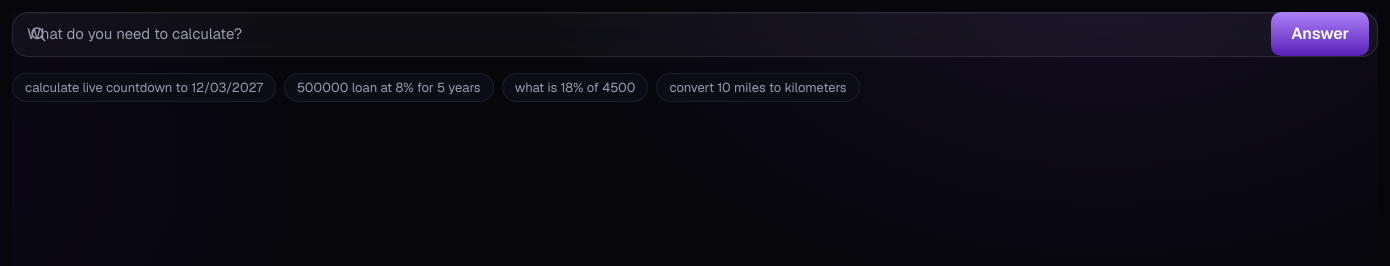
Test: IntentSearch › shows a no-result state with a few candidates for gibberish
In the field: (695, 34) [13,13,1377,56], type "asdkfj qworitu zxcvbn"
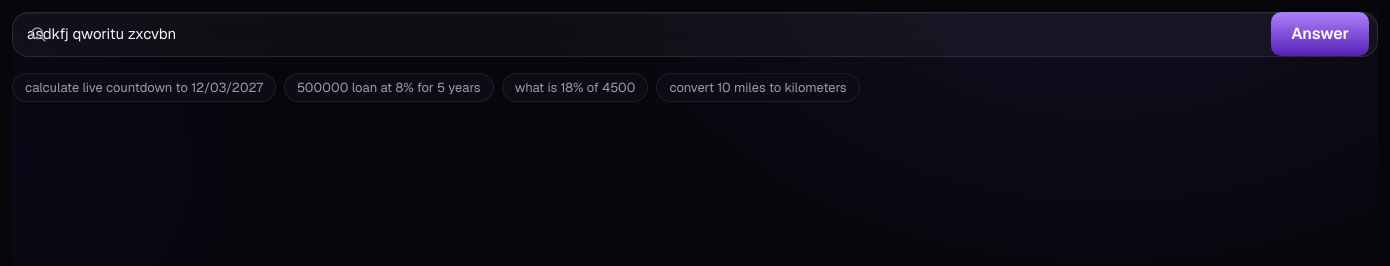
Submit the form, box [12,12,1378,56]
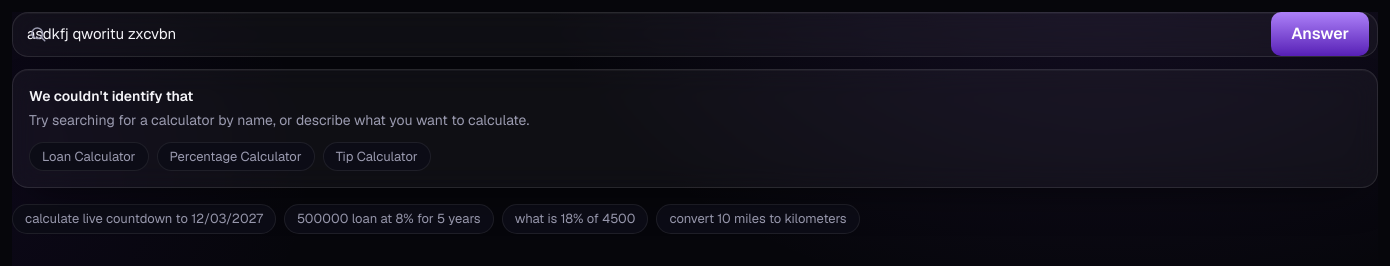
Now the text "We couldn't identify that" is shown, box [29,86,193,104]
